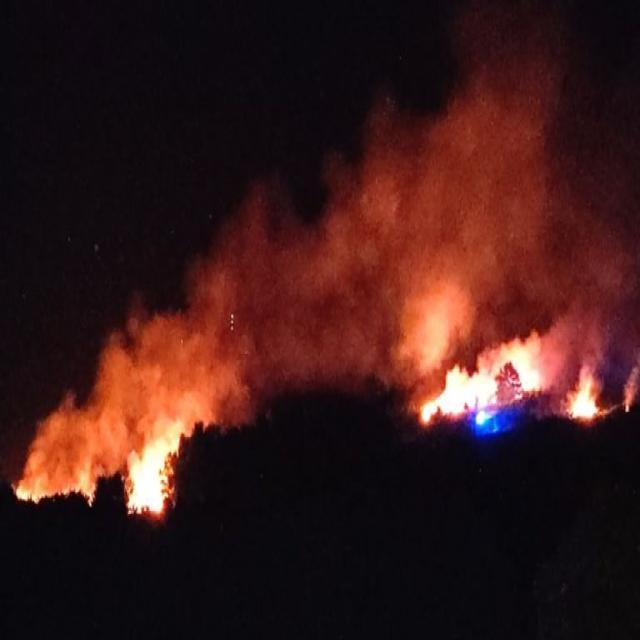Fire: (402, 299, 550, 436), (9, 440, 116, 510), (124, 410, 188, 524), (559, 358, 601, 428), (623, 366, 640, 420)
Smoke: (397, 6, 640, 286), (264, 125, 396, 402), (190, 195, 262, 434), (32, 292, 120, 431), (127, 286, 185, 405)
